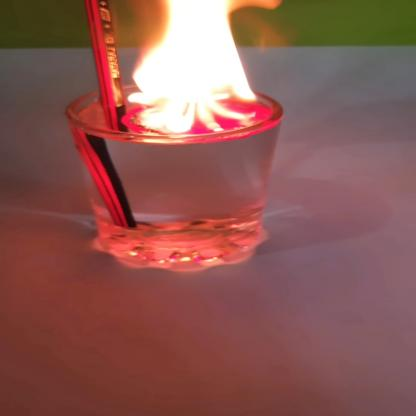Fire: (108, 0, 278, 134)
